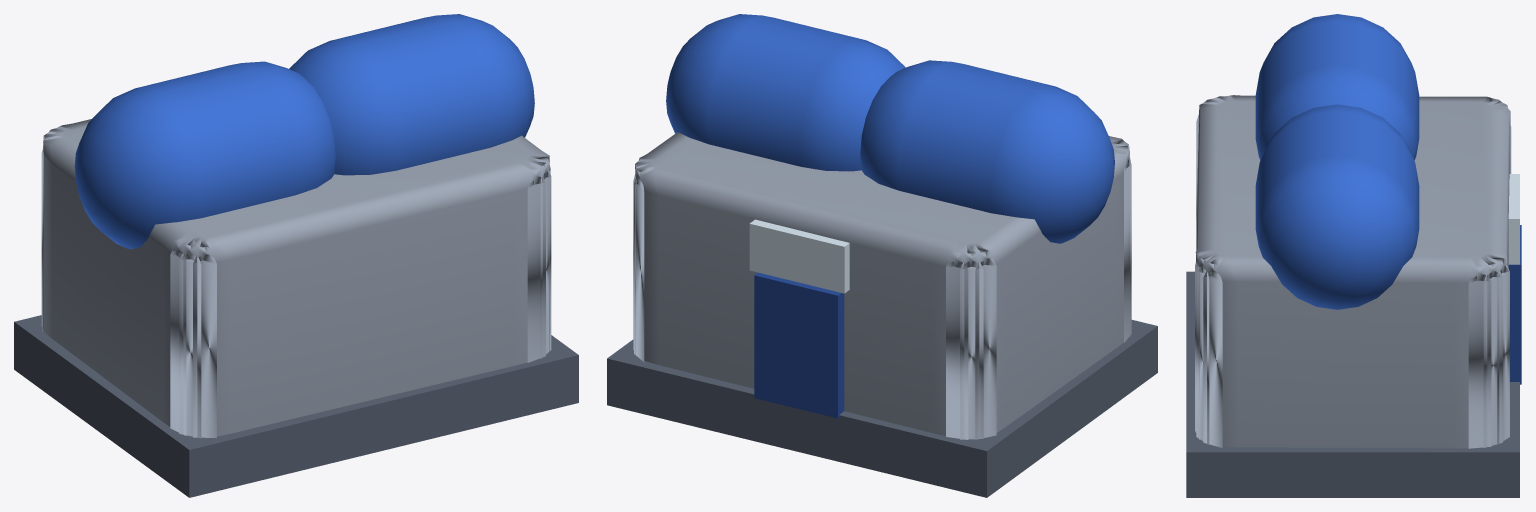
File: b_barracks.glb
3 renders of one model, left to right at view 1: azimuth 30°, elevation 25°; view 2: azimuth 150°, elevation 25°; view 3: azimuth 270°, elevation 25°, orthographic. The views are drawn at different scales.
Visible parts, largest first — view 1: ba_hull.001, ba_pod-1.001, ba_skirt.001, ba_pod1.001; view 2: ba_hull.001, ba_pod-1.001, ba_skirt.001, ba_pod1.001, ba_door.001, ba_win.001; view 3: ba_hull.001, ba_pod1.001, ba_skirt.001, ba_pod-1.001, ba_door.001, ba_win.001.
Part boxes in pixels (<box>): ba_hull.001: <box>41,119,551,438</box>; ba_pod-1.001: <box>74,61,335,249</box>; ba_skirt.001: <box>14,315,578,497</box>; ba_pod1.001: <box>289,14,534,175</box>; ba_hull.001: <box>633,132,1131,439</box>; ba_pod-1.001: <box>860,60,1114,243</box>; ba_skirt.001: <box>607,320,1157,497</box>; ba_pod1.001: <box>666,14,905,171</box>; ba_door.001: <box>754,272,844,418</box>; ba_win.001: <box>749,219,849,293</box>; ba_hull.001: <box>1195,95,1511,448</box>; ba_pod1.001: <box>1255,104,1419,309</box>; ba_skirt.001: <box>1186,271,1519,497</box>; ba_pod-1.001: <box>1255,14,1419,160</box>; ba_door.001: <box>1508,225,1521,384</box>; ba_win.001: <box>1508,174,1519,264</box>.
Bounding box in the file's own units: 1.53 × 1.12 × 1.06.
